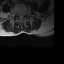CCS_stenosis: (20, 13, 22, 20)
LFS_stenosis: (24, 12, 25, 16)
LLS_normal: (22, 13, 24, 19)
RFS_stenosis: (17, 13, 19, 17)
RLS_normal: (18, 13, 20, 18)
